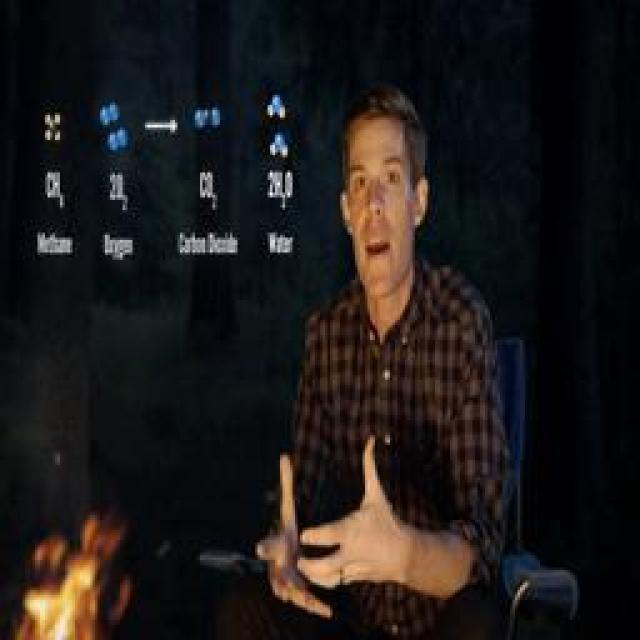Fire: (18, 512, 132, 640)
